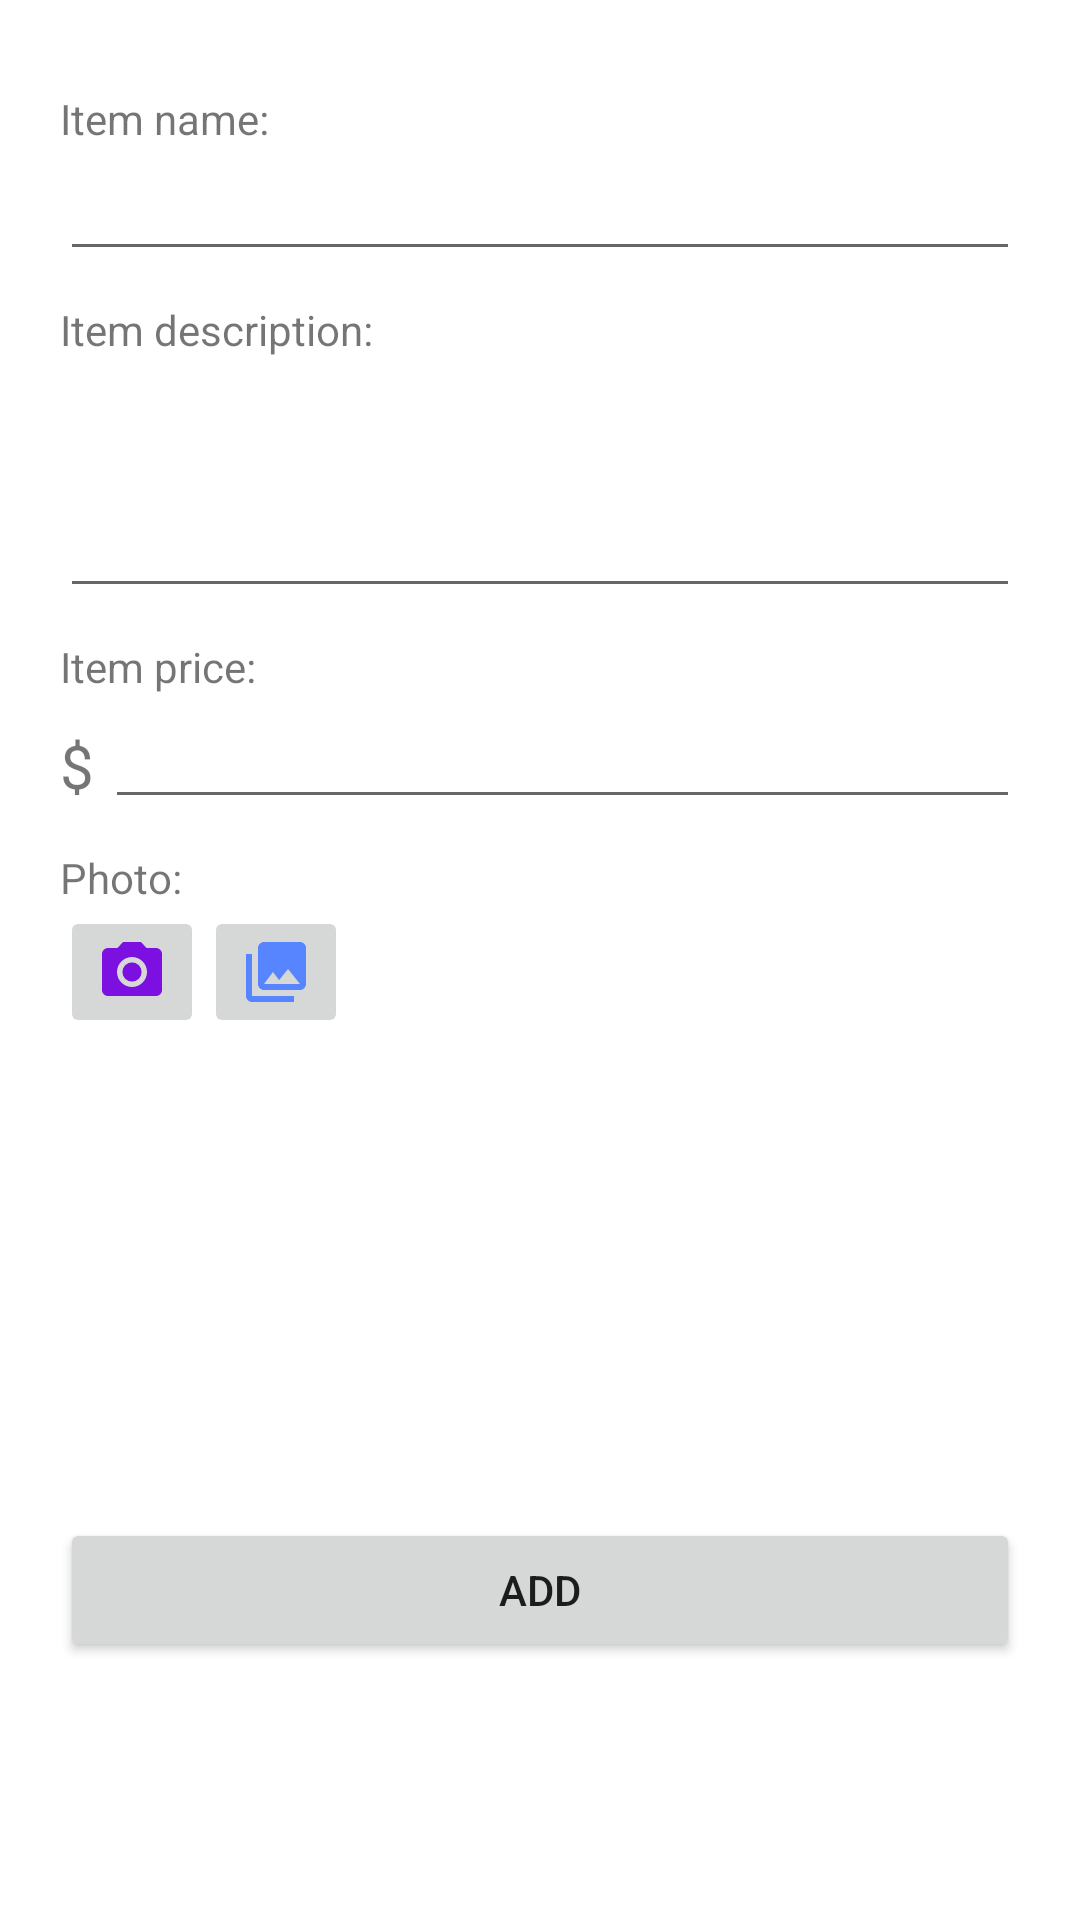

Icon bounding boxes for this 1080px x 1920px phone screenshot, format (x1, y1, x2, y2):
camera: (72, 924, 192, 1020)
